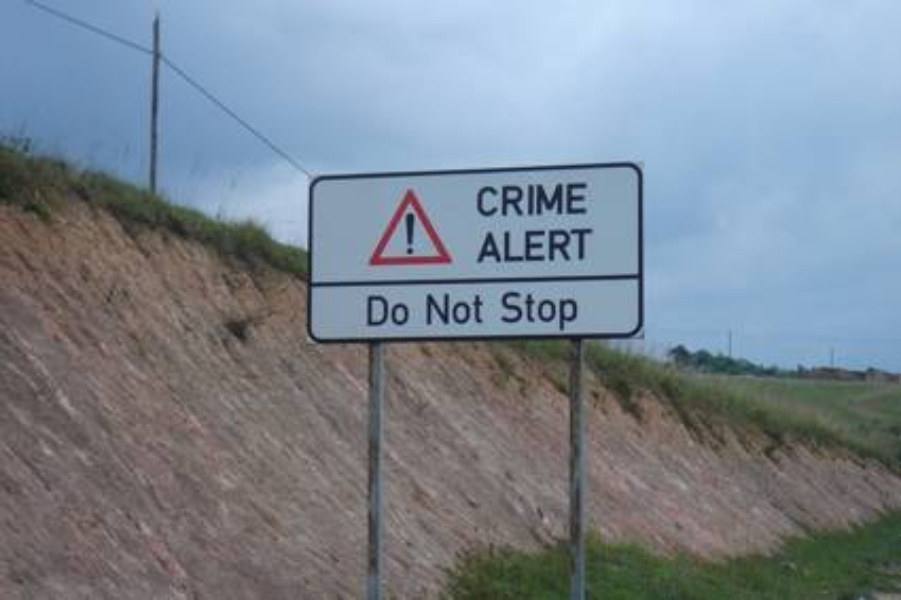text: (513, 289, 528, 331), (529, 289, 544, 331), (545, 289, 560, 331), (561, 289, 576, 331), (403, 210, 416, 257), (481, 183, 496, 219), (497, 183, 512, 219), (513, 183, 528, 219), (529, 183, 544, 219), (545, 183, 560, 219), (561, 183, 576, 219), (497, 227, 512, 261), (513, 227, 528, 261), (529, 227, 544, 261), (545, 227, 560, 261), (561, 227, 576, 261), (577, 227, 592, 261), (369, 295, 384, 327), (385, 295, 400, 327), (433, 293, 448, 325), (449, 293, 464, 325), (465, 293, 480, 325), (577, 183, 590, 219), (501, 289, 512, 331), (484, 227, 496, 261), (401, 295, 412, 327), (425, 293, 432, 325), (475, 183, 480, 219), (481, 293, 486, 325), (365, 295, 368, 327), (577, 289, 579, 331), (417, 210, 418, 257), (593, 227, 594, 261)
